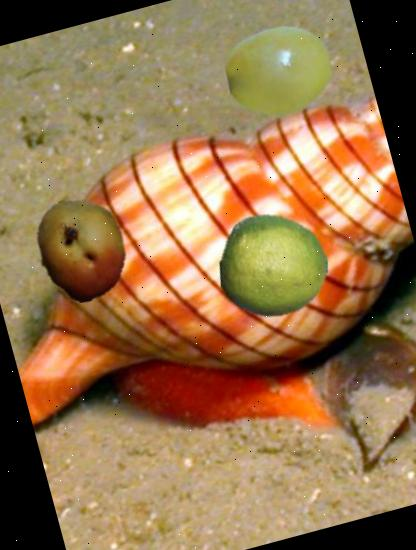Grape: (215, 6, 347, 138)
Limes: (208, 200, 341, 332)
Papaya: (18, 186, 146, 313)
